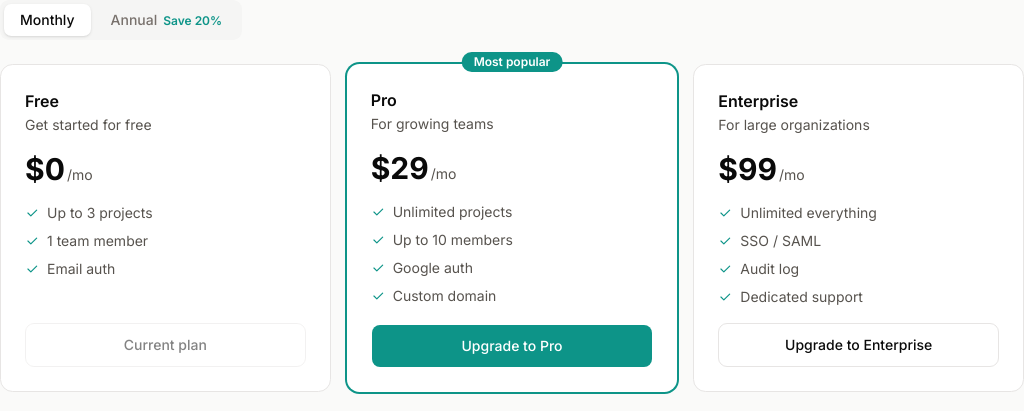
Test case: PricingTable › monthly/annual toggle updates displayed prices
Expected: the text "$29" is shown, [371,150,429,186]
// Switch to annual
What coordinates should you click on to do the following:
click the button "Annual"
I would click on:
 (166, 20)
Its box is [94,4,238,36].
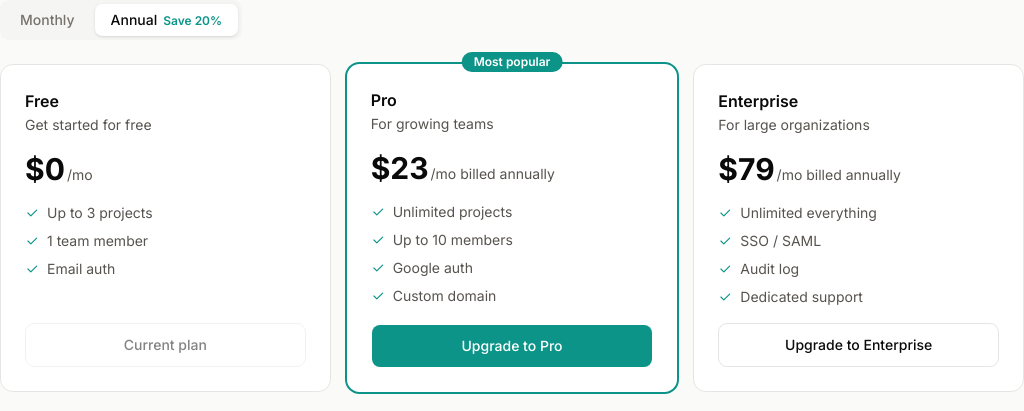
Expected: the text "$23" is shown, [371,150,429,186]
